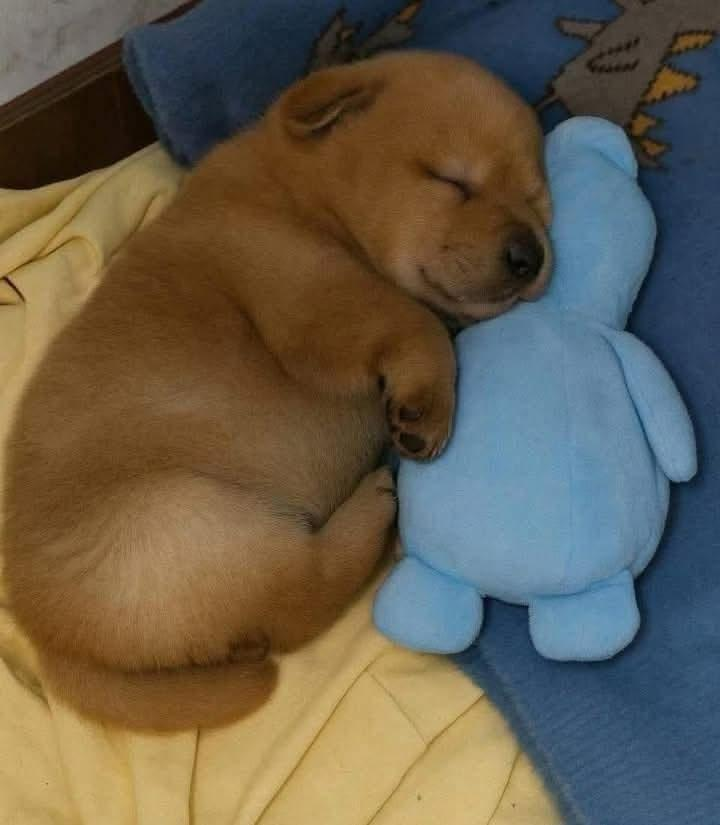puppy-dog: (0, 44, 564, 742)
